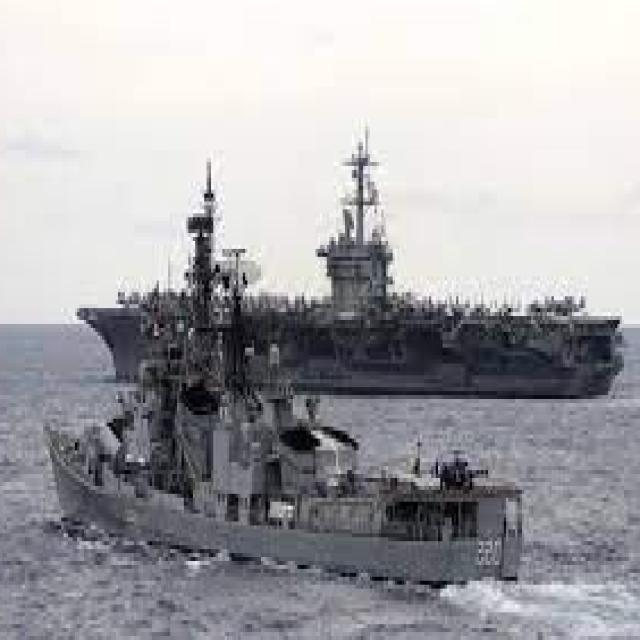navalvessels: (76, 162, 629, 409)
